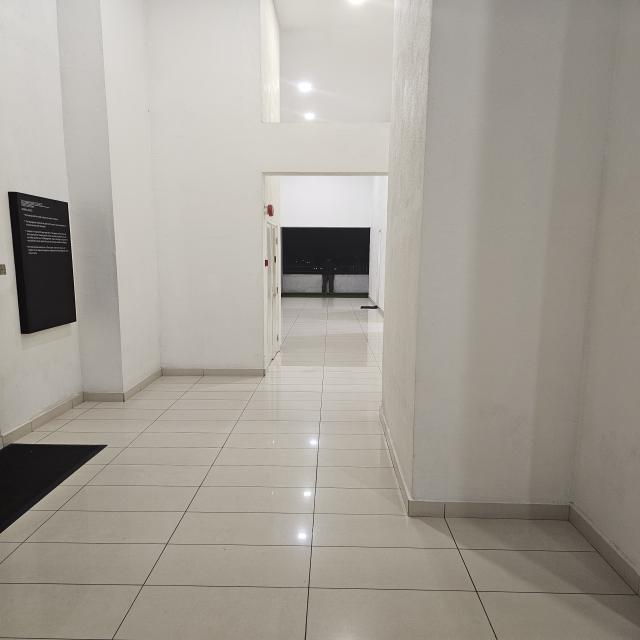footpath: (21, 393, 392, 640)
